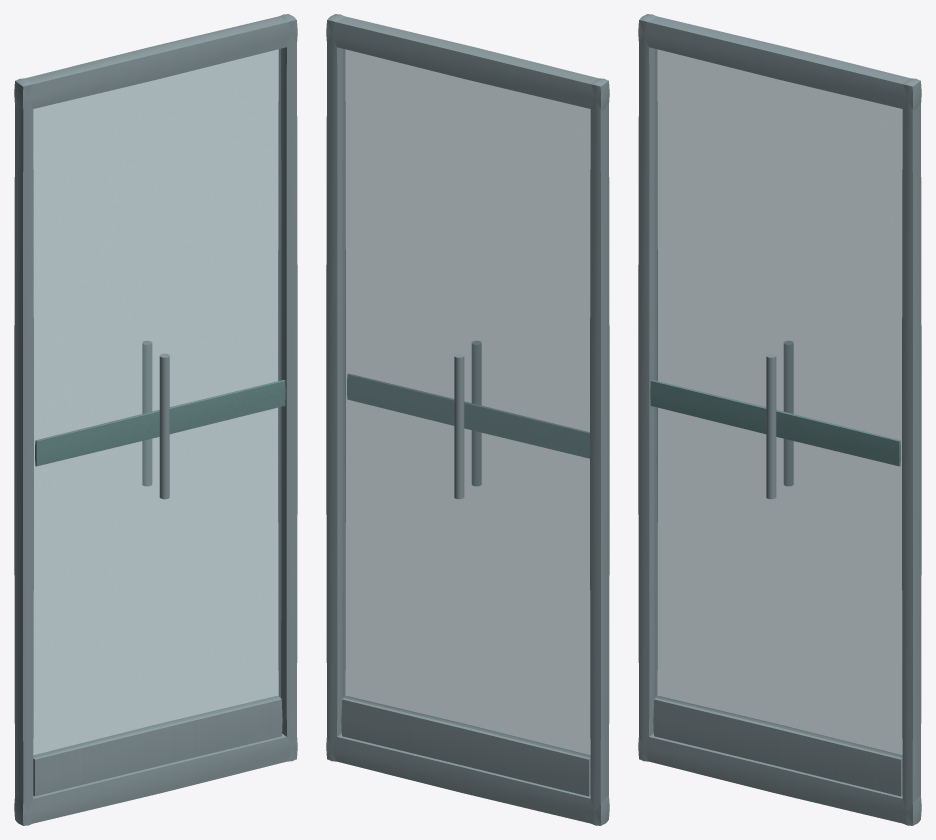
Rendered from entrance-leaf.glb.
The picture shows the model from 3 angles, left to right: view 1: azimuth 30°, elevation 25°; view 2: azimuth 150°, elevation 25°; view 3: azimuth 330°, elevation 25°; orthographic projection.
Visible parts, largest first — view 1: entrance-leaf; view 2: entrance-leaf; view 3: entrance-leaf.
Boxes of the visible parts, x1=… form: entrance-leaf: x1=14, y1=14, x2=297, y2=825; entrance-leaf: x1=326, y1=14, x2=609, y2=825; entrance-leaf: x1=638, y1=14, x2=921, y2=825.
Bounding box in the file's own units: 0.82 × 2.1 × 0.116.
Materials: 9 (9 with a texture image).
